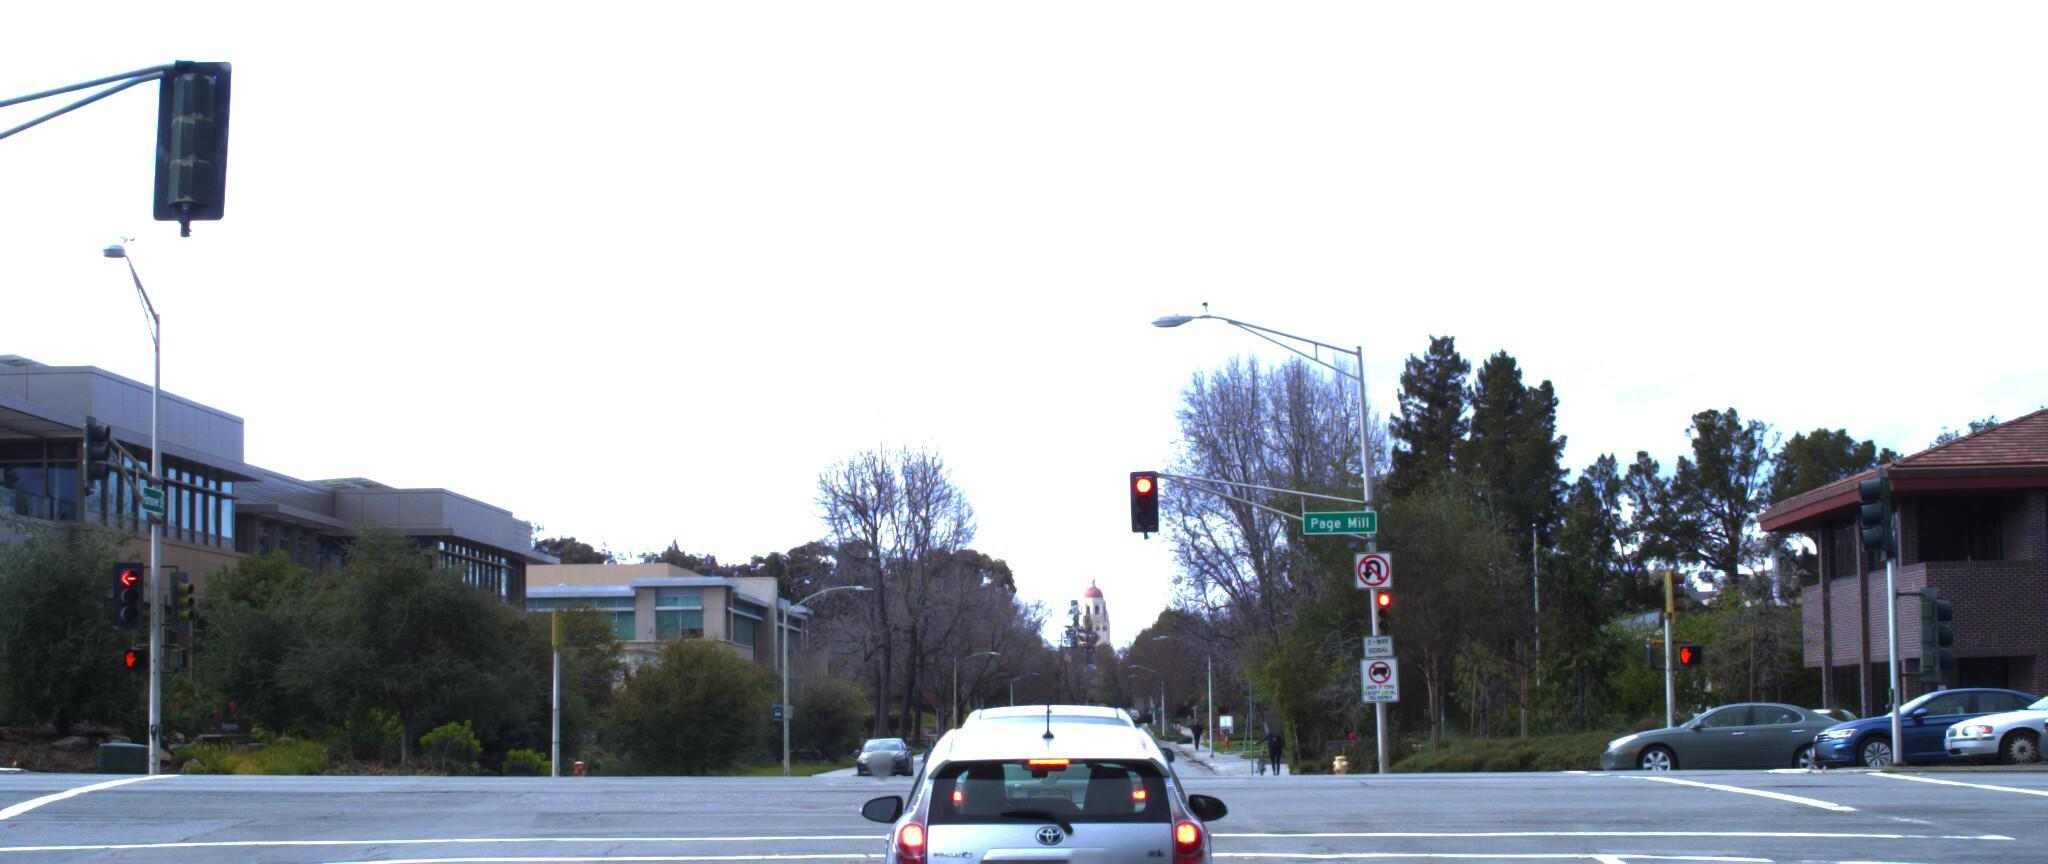car: (854, 697, 1259, 864), (913, 696, 1206, 864), (1771, 676, 2048, 783), (1609, 697, 1891, 787), (1907, 658, 2048, 773), (2000, 636, 2048, 778)
